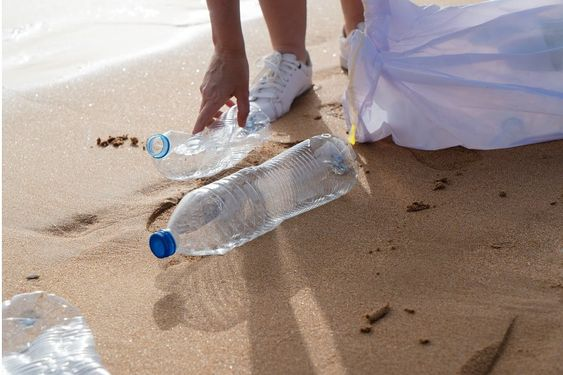Metal: (148, 224, 176, 269)
papel: (343, 1, 563, 157)
paper: (176, 129, 363, 261), (147, 97, 281, 180), (0, 281, 113, 375)
